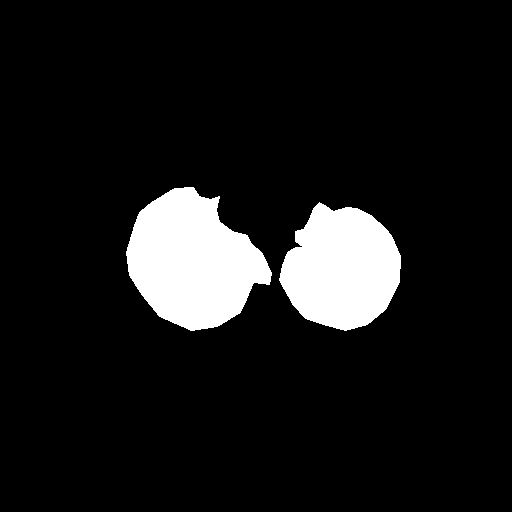Lungs: (130, 183, 269, 330), (281, 205, 405, 327)
